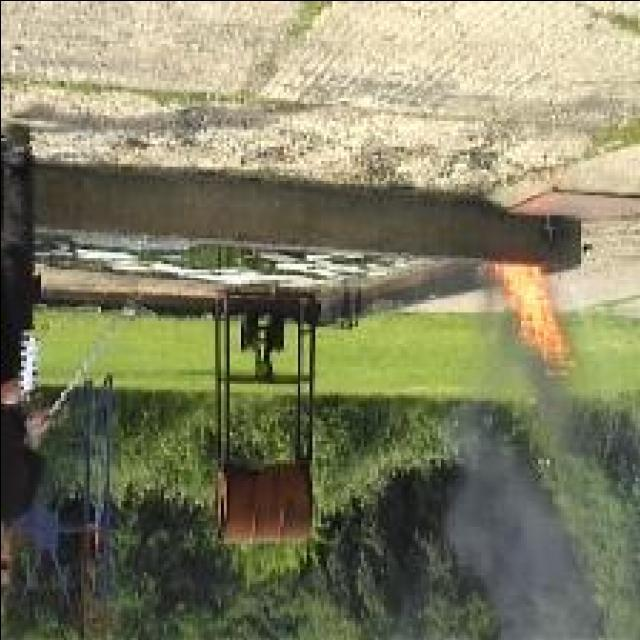Fire: (484, 264, 570, 367)
